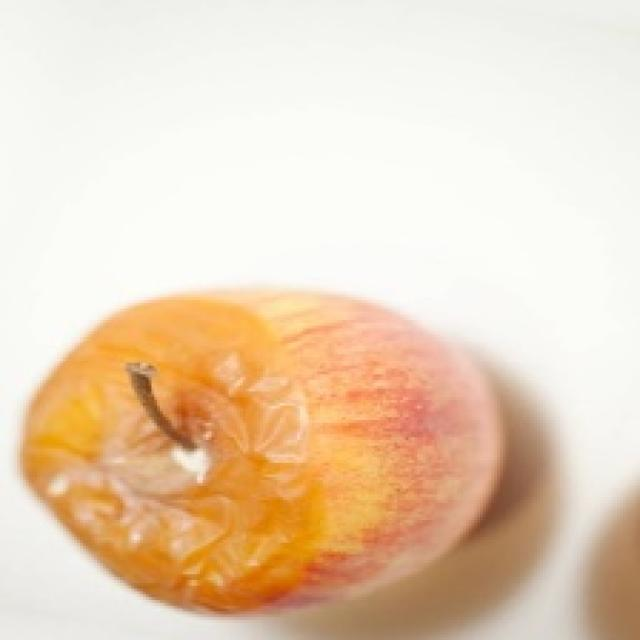rotten_apple: (35, 299, 492, 605)
